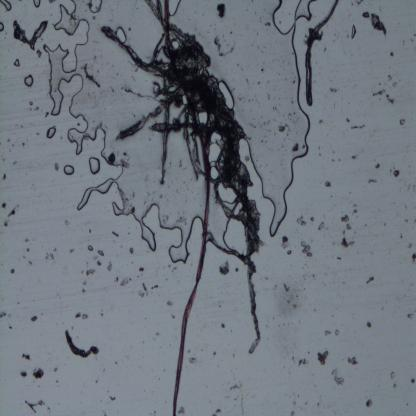Air bubble: (70, 124, 204, 263), (39, 0, 109, 151), (245, 134, 302, 236), (274, 24, 315, 141), (216, 76, 236, 110), (292, 0, 315, 21), (87, 156, 101, 176), (113, 25, 128, 43), (62, 162, 76, 177), (168, 0, 181, 16), (44, 126, 56, 140), (0, 0, 12, 12), (24, 74, 34, 88), (350, 22, 356, 40), (13, 57, 21, 68), (96, 248, 104, 258), (33, 0, 41, 8), (0, 21, 5, 33), (88, 244, 94, 252), (287, 249, 292, 254), (89, 229, 92, 233)
Background material: (93, 0, 266, 243), (226, 379, 248, 416), (22, 395, 51, 416), (214, 33, 236, 58), (80, 62, 100, 88), (221, 244, 246, 262), (371, 13, 387, 37), (330, 368, 346, 386), (299, 239, 313, 259), (31, 366, 45, 382), (216, 1, 227, 20), (316, 349, 329, 365), (219, 259, 230, 276), (277, 121, 290, 133), (371, 88, 385, 99), (7, 204, 18, 218), (281, 234, 290, 250), (347, 355, 359, 366), (120, 276, 132, 287), (106, 260, 116, 273), (350, 122, 366, 130), (139, 282, 147, 298), (74, 311, 88, 320), (297, 215, 307, 227), (44, 251, 54, 263), (84, 267, 97, 276), (20, 351, 31, 361), (126, 245, 136, 256), (364, 397, 373, 409), (211, 406, 221, 416), (386, 96, 396, 106), (340, 236, 348, 248), (282, 281, 290, 293), (168, 265, 180, 273), (392, 166, 400, 178), (340, 214, 350, 223), (177, 407, 187, 416), (136, 264, 145, 274), (388, 369, 396, 380), (188, 355, 197, 364), (298, 358, 308, 366), (292, 142, 300, 152), (19, 370, 28, 378), (323, 328, 332, 336), (318, 221, 326, 230), (365, 276, 374, 284), (399, 116, 406, 126), (0, 201, 7, 211), (166, 300, 176, 307), (29, 314, 37, 322), (24, 245, 32, 253), (248, 121, 257, 128), (361, 11, 370, 18), (368, 178, 378, 184), (264, 20, 271, 28), (324, 180, 331, 188), (386, 73, 393, 81), (351, 152, 358, 160), (329, 86, 338, 92), (150, 282, 159, 288), (354, 0, 364, 5), (54, 161, 59, 171), (36, 48, 42, 56), (392, 382, 398, 390), (410, 254, 416, 262), (236, 95, 244, 101), (111, 230, 119, 236), (245, 77, 250, 86), (291, 355, 296, 364), (272, 105, 278, 112), (346, 223, 352, 230), (309, 215, 315, 222), (52, 365, 58, 372), (3, 220, 9, 227), (109, 394, 116, 400), (366, 321, 372, 328), (247, 98, 254, 104), (0, 312, 7, 318), (375, 162, 380, 170), (335, 328, 340, 336), (80, 286, 85, 294), (301, 142, 306, 150), (353, 201, 358, 209), (410, 378, 416, 384), (407, 312, 413, 318), (266, 92, 270, 101), (220, 323, 226, 329), (154, 330, 160, 336), (9, 268, 15, 274), (349, 241, 355, 247), (65, 219, 70, 226), (408, 242, 413, 249), (389, 50, 394, 57), (341, 229, 346, 236), (171, 313, 176, 320), (402, 38, 406, 46), (398, 231, 402, 239), (45, 111, 49, 119), (259, 16, 263, 24), (302, 274, 306, 282), (286, 298, 291, 304), (82, 281, 88, 286), (336, 256, 342, 261), (392, 81, 397, 87), (25, 237, 30, 243), (70, 248, 75, 254), (210, 350, 216, 355), (260, 67, 265, 73), (96, 261, 102, 266), (7, 324, 13, 329), (233, 267, 238, 273), (69, 324, 74, 330), (315, 401, 320, 407), (292, 303, 296, 310), (100, 311, 104, 318), (153, 409, 157, 416), (2, 173, 6, 180), (49, 0, 56, 4), (408, 182, 411, 191), (353, 209, 358, 214), (187, 349, 192, 354), (256, 44, 260, 50), (22, 254, 26, 260), (257, 80, 261, 86), (116, 276, 119, 283), (52, 248, 57, 252), (346, 118, 350, 123), (290, 411, 294, 416), (404, 218, 408, 223), (293, 400, 297, 405), (34, 107, 39, 111), (262, 121, 266, 126), (94, 379, 98, 384), (319, 119, 323, 124), (29, 101, 33, 106), (2, 158, 6, 163), (304, 401, 308, 406), (36, 131, 40, 136), (410, 37, 414, 42), (6, 138, 11, 142), (413, 216, 416, 222), (60, 134, 63, 140), (256, 30, 259, 36), (332, 158, 336, 162), (254, 11, 258, 15), (404, 205, 408, 209), (288, 112, 292, 116), (318, 153, 322, 157), (297, 393, 300, 398), (22, 141, 25, 146), (406, 402, 409, 407), (29, 260, 32, 265), (114, 361, 119, 364), (307, 350, 310, 355), (317, 146, 320, 150), (76, 122, 80, 125), (188, 18, 191, 22), (279, 20, 282, 24), (338, 158, 341, 162), (312, 274, 315, 278), (21, 124, 24, 128), (292, 80, 296, 83), (293, 111, 296, 115), (207, 30, 210, 34), (13, 162, 17, 165), (332, 150, 335, 154), (390, 168, 392, 173), (364, 223, 367, 226), (303, 287, 306, 290), (264, 140, 267, 143), (251, 0, 254, 3), (214, 23, 217, 26), (209, 23, 212, 26), (214, 27, 216, 31), (314, 308, 316, 312), (296, 294, 298, 298), (384, 222, 386, 226), (326, 226, 328, 230), (342, 282, 345, 284), (41, 245, 43, 248), (262, 50, 264, 53), (274, 118, 276, 121), (9, 150, 12, 152), (12, 144, 14, 147), (283, 322, 285, 325), (334, 103, 335, 109), (50, 13, 52, 16), (230, 31, 233, 33), (413, 34, 416, 36), (348, 103, 350, 105), (278, 325, 280, 327), (379, 83, 380, 86), (288, 323, 289, 325)
Cellulose filter fibre: (304, 0, 339, 108), (247, 253, 262, 356), (12, 17, 48, 51), (63, 329, 99, 360)
Cotton: (160, 0, 212, 413)
